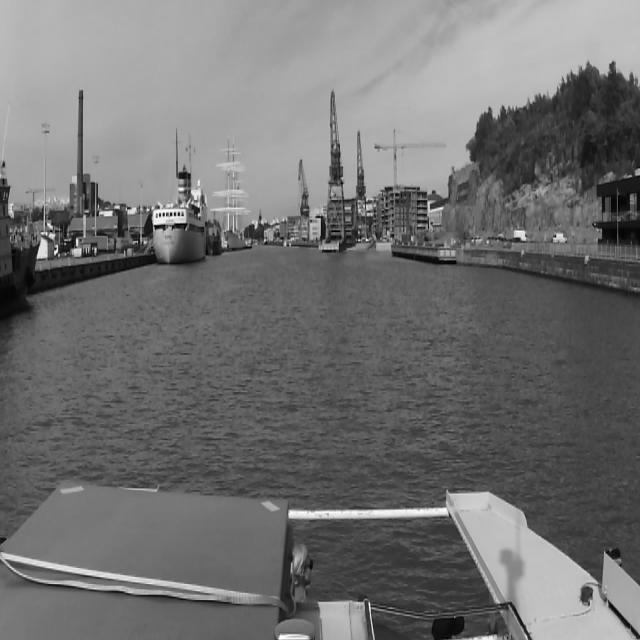ship: (151, 169, 207, 282), (211, 131, 249, 261), (206, 210, 222, 257), (284, 221, 292, 247)
